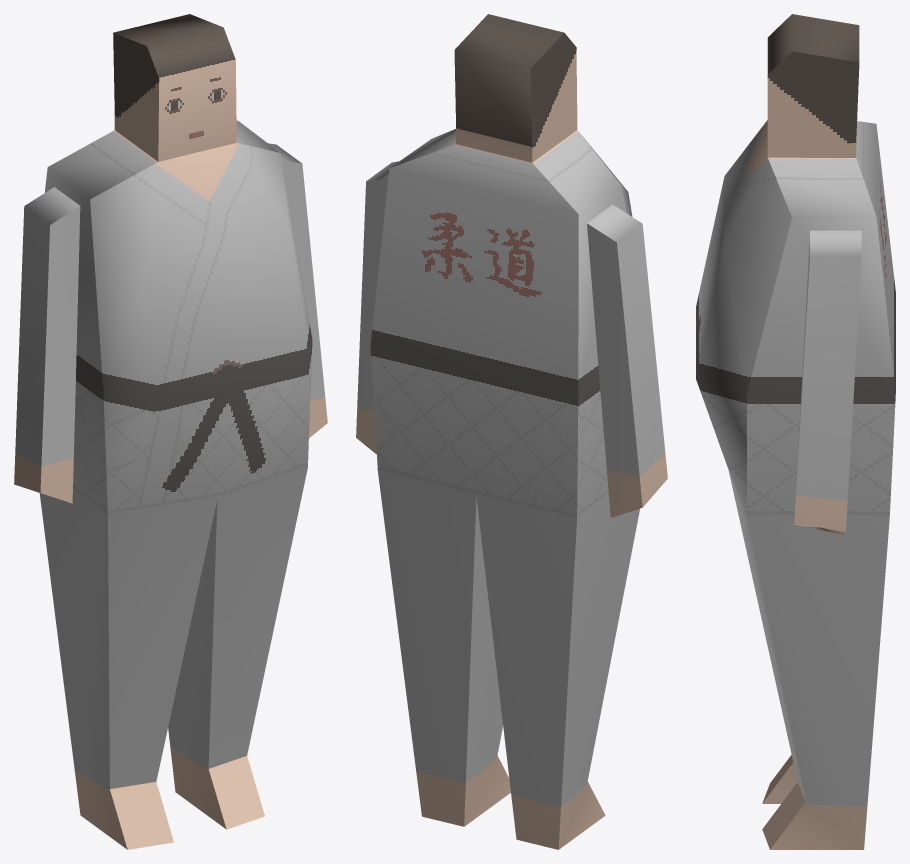
The model's file is 058a_Judo_Wrestler.glb.
The picture shows the model from 3 angles, left to right: view 1: azimuth 30°, elevation 25°; view 2: azimuth 150°, elevation 25°; view 3: azimuth 270°, elevation 25°; orthographic projection.
Parts seen in each view (by area): view 1: part_0; view 2: part_0; view 3: part_0.
Boxes of the visible parts, left/top/right/bottom form: part_0: left=14, top=14, right=327, bottom=849; part_0: left=356, top=14, right=667, bottom=849; part_0: left=696, top=14, right=895, bottom=849.
Bounding box in the file's own units: 0.7614 × 1.99 × 0.4594.
1 material, 1 textured.
